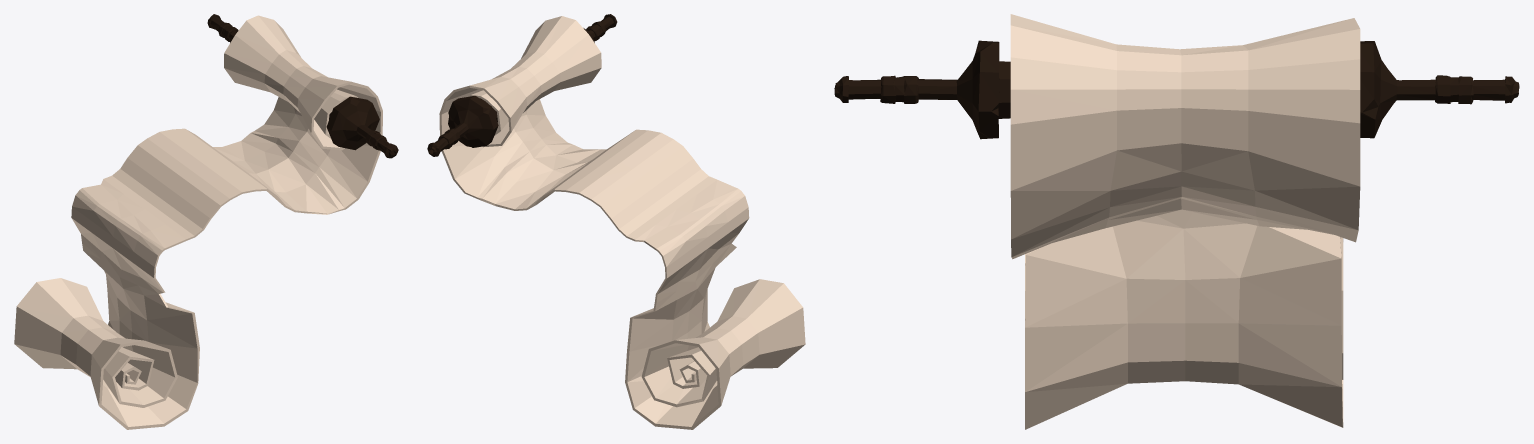
Rendered from SFFA_Scroll_Opened.fbx.
The picture shows the model from 3 angles, left to right: view 1: azimuth 30°, elevation 25°; view 2: azimuth 150°, elevation 25°; view 3: azimuth 270°, elevation 25°; orthographic projection. The views are drawn at different scales.
Visible parts, largest first — view 1: SFFA_Scroll_Opened; view 2: SFFA_Scroll_Opened; view 3: SFFA_Scroll_Opened.
Part boxes in pixels (x1,y1,x2,y2): SFFA_Scroll_Opened: (14,14,398,429); SFFA_Scroll_Opened: (427,14,805,429); SFFA_Scroll_Opened: (834,14,1519,429).
Size of the model in its own units: 126 by 130 by 142.
